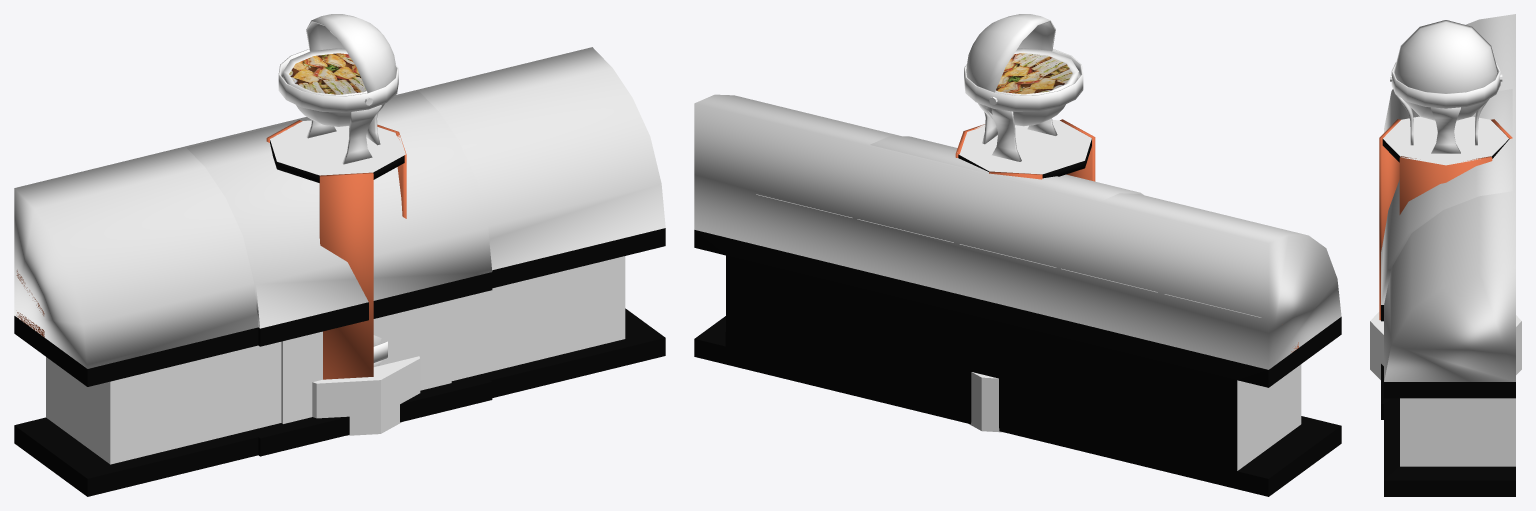
File: CatteringProps.fbx
3 renders of one model, left to right at view 1: azimuth 30°, elevation 25°; view 2: azimuth 150°, elevation 25°; view 3: azimuth 270°, elevation 25°, orthographic. The views are drawn at different scales.
Parts seen in each view (by area): view 1: CateringBig, CateringSmall, CatteringCircle; view 2: CateringBig, CatteringCircle, CateringSmall; view 3: CateringBig, CatteringCircle, CateringSmall.
Part boxes in pixels (x1,y1,x2,y2): CateringBig: [14, 47, 665, 496]; CateringSmall: [187, 91, 492, 456]; CatteringCircle: [266, 14, 420, 435]; CateringBig: [694, 94, 1341, 496]; CatteringCircle: [955, 14, 1095, 432]; CateringSmall: [870, 135, 1143, 201]; CateringBig: [1384, 14, 1515, 496]; CatteringCircle: [1370, 20, 1521, 379]; CateringSmall: [1381, 89, 1512, 419].
Bounding box in the file's own units: 2.37 × 1.5 × 0.6.
